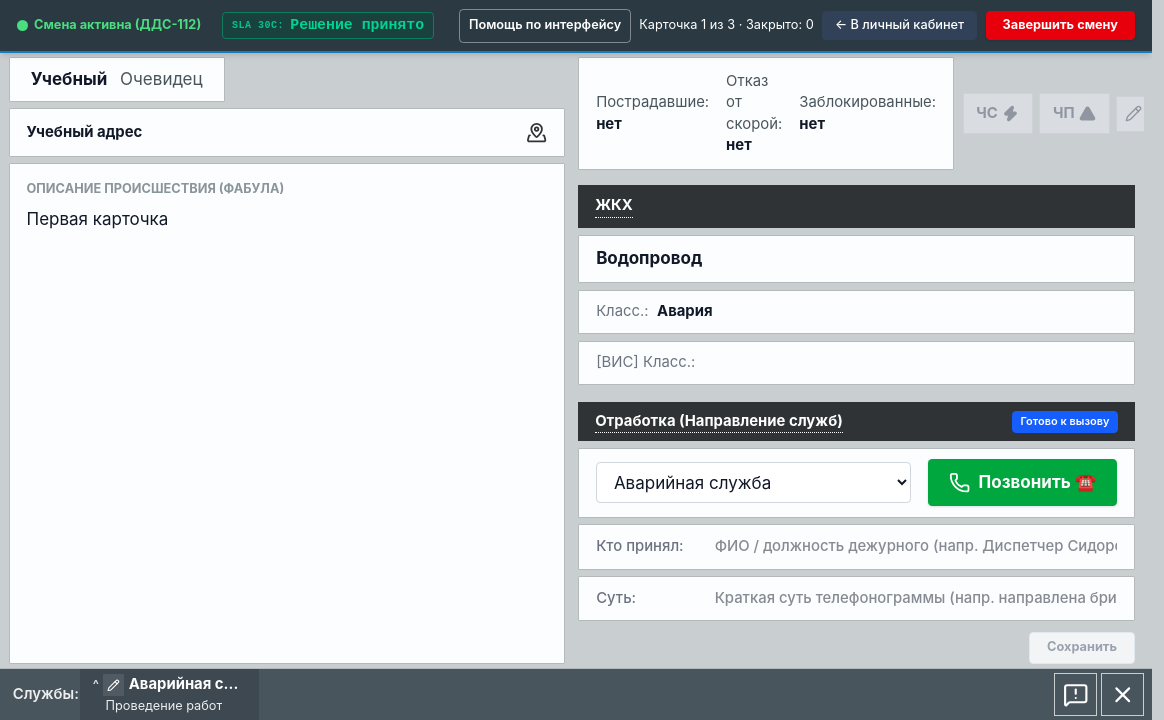
Test case: uses early finish separately and does not invent a grade
Click the button "Завершить смену" at (1060, 25), box [986,11,1135,40]
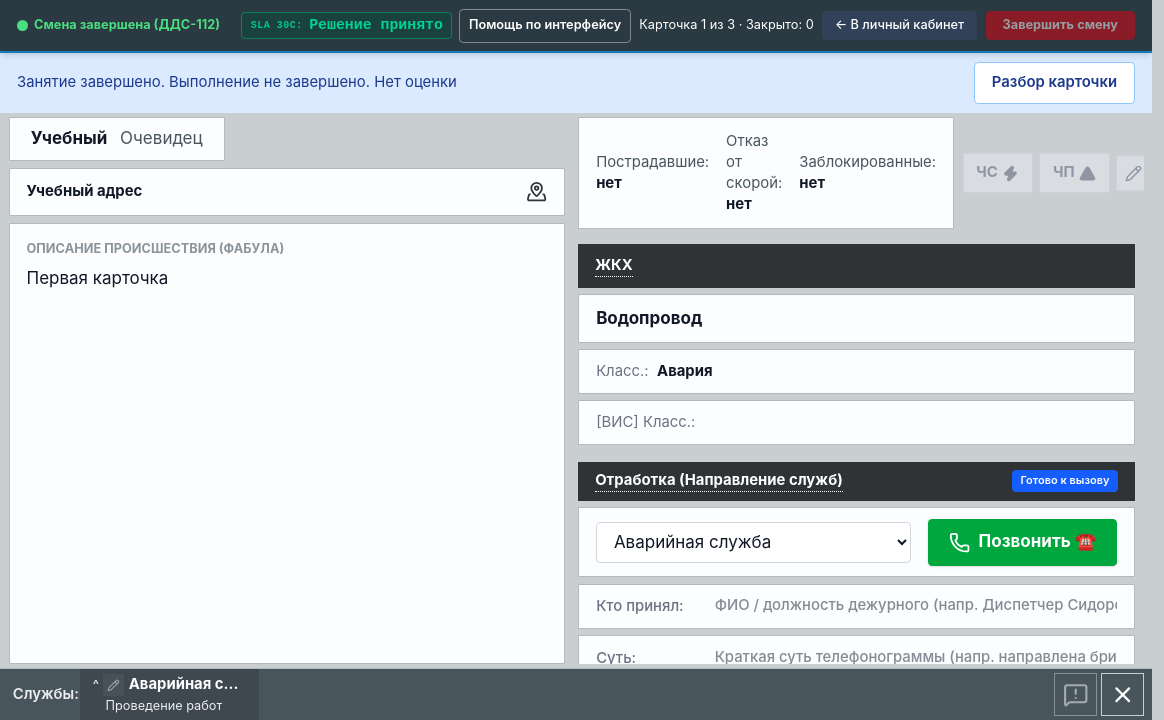
Expected: the text "Занятие завершено. Выполнение не завершено. Нет оценки" is shown, [17,72,457,93]
Expected: the button named "Отработана" is disabled, [1054,673,1097,716]
